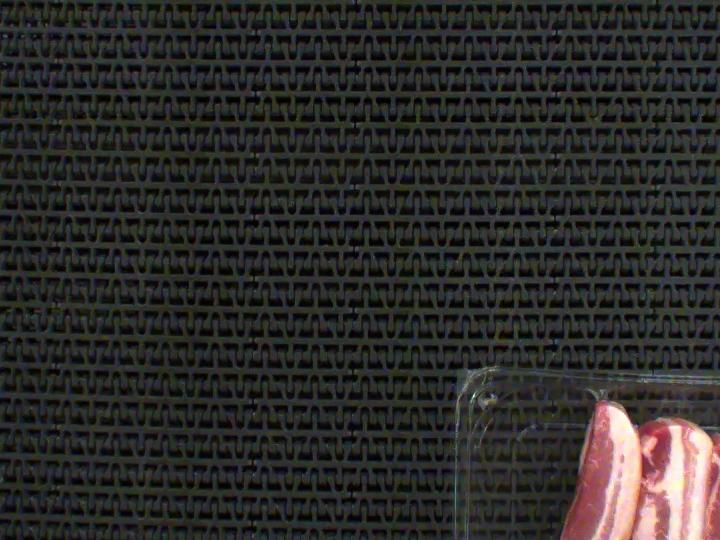packaging-error: (583, 379, 617, 406)
